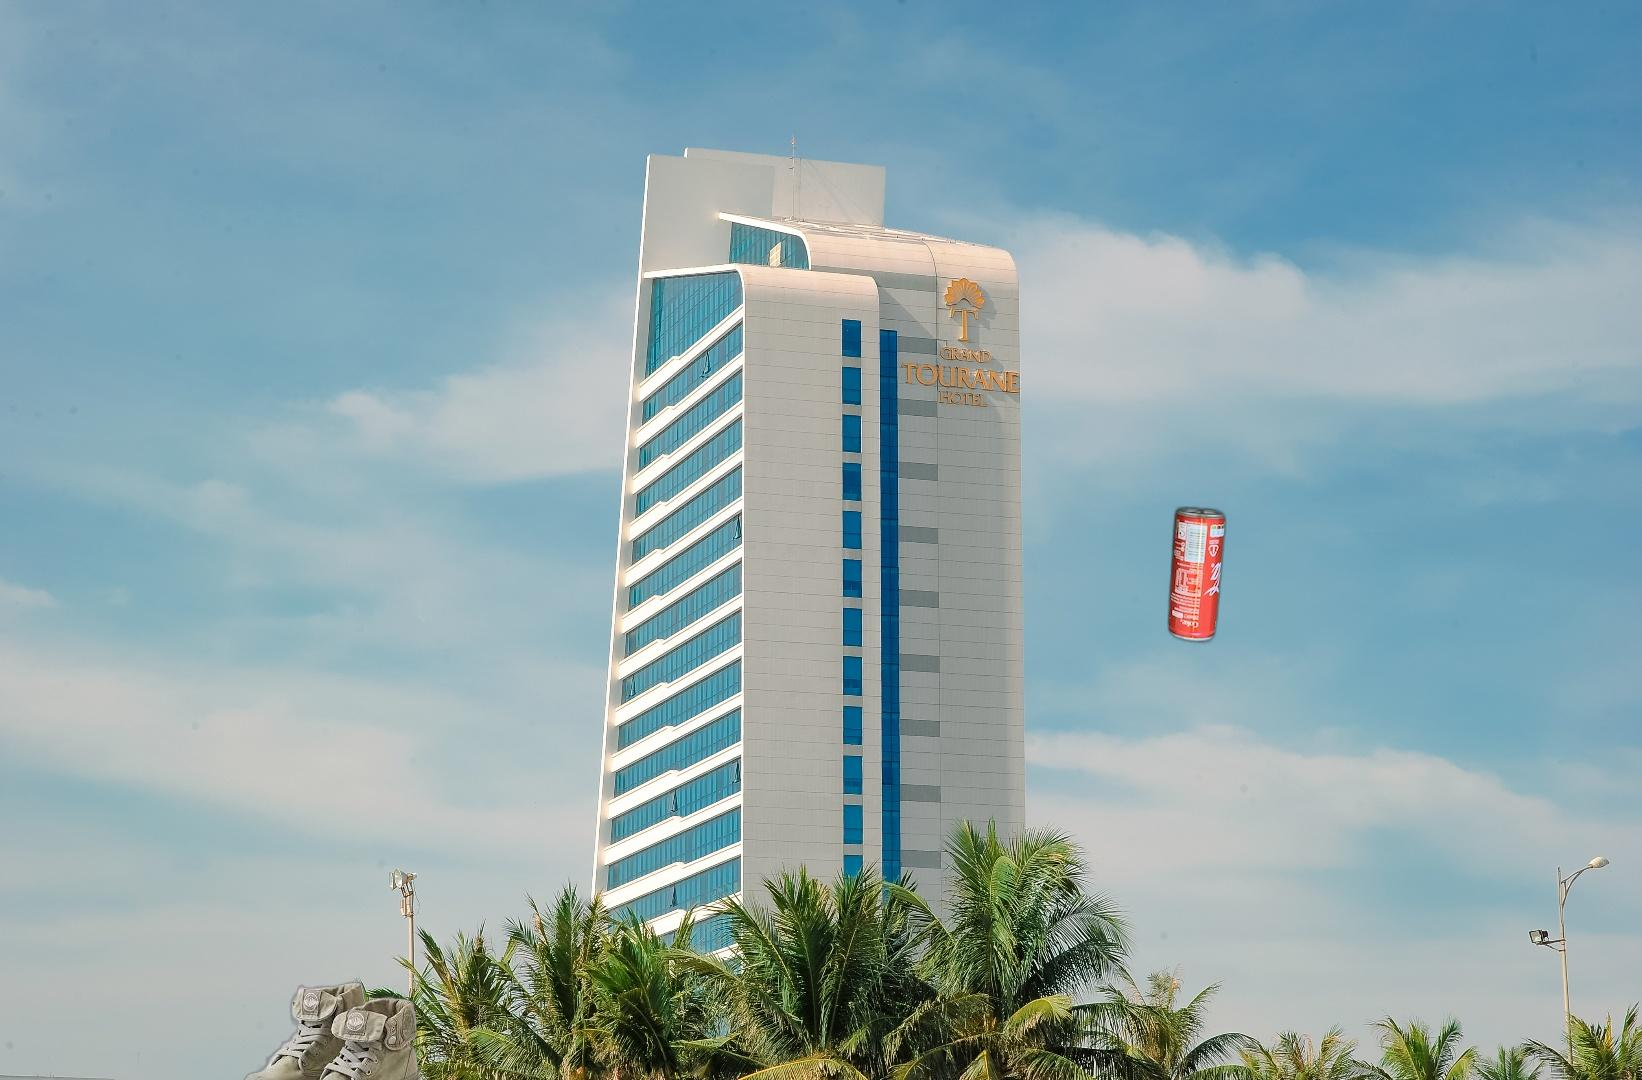metal-cans: (1163, 501, 1231, 648)
shoes: (239, 978, 422, 1080)
